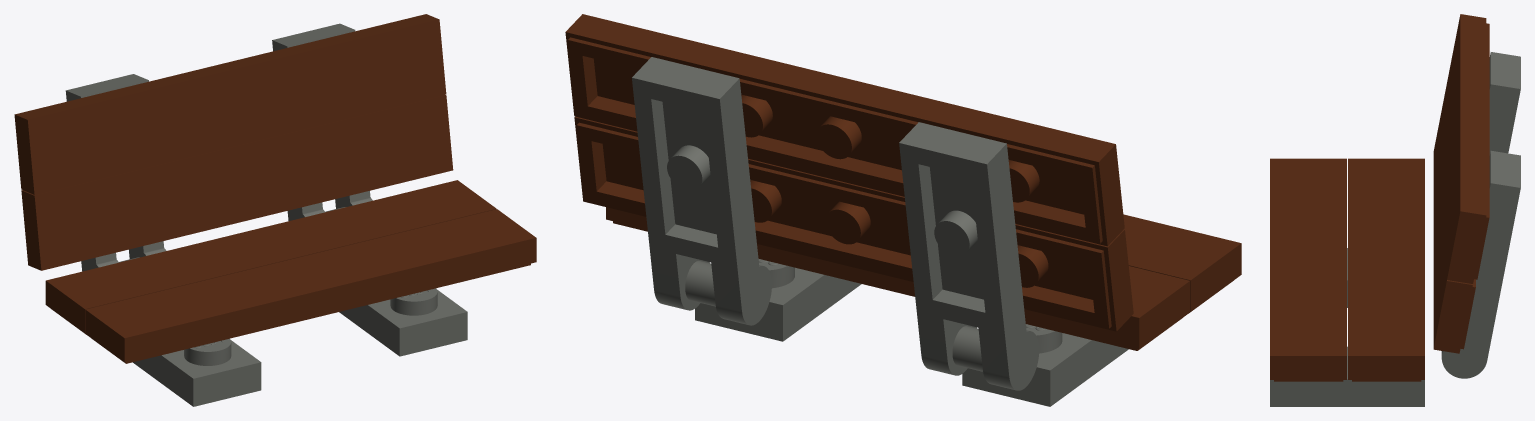
The model's file is banco.dae.
3 renders of one model, left to right at view 1: azimuth 30°, elevation 25°; view 2: azimuth 150°, elevation 25°; view 3: azimuth 270°, elevation 25°, orthographic. The views are drawn at different scales.
Parts seen in each view (by area): view 1: Inner-Node-banco_dot_io-7, Inner-Node-banco_dot_io-6, Inner-Node-banco_dot_io-4, Inner-Node-banco_dot_io-5, Inner-Node-banco_dot_io-0, Inner-Node-banco_dot_io-2, Inner-Node-banco_dot_io-1, Inner-Node-banco_dot_io-3; view 2: Inner-Node-banco_dot_io-7, Inner-Node-banco_dot_io-6, Inner-Node-banco_dot_io-1, Inner-Node-banco_dot_io-3, Inner-Node-banco_dot_io-5, Inner-Node-banco_dot_io-4, Inner-Node-banco_dot_io-0, Inner-Node-banco_dot_io-2; view 3: Inner-Node-banco_dot_io-4, Inner-Node-banco_dot_io-5, Inner-Node-banco_dot_io-7, Inner-Node-banco_dot_io-3, Inner-Node-banco_dot_io-6, Inner-Node-banco_dot_io-2, Inner-Node-banco_dot_io-1.
Boxes of the visible parts, left/top/right/bottom form: Inner-Node-banco_dot_io-7: left=14, top=14, right=446, bottom=194; Inner-Node-banco_dot_io-6: left=21, top=95, right=453, bottom=270; Inner-Node-banco_dot_io-4: left=85, top=209, right=536, bottom=363; Inner-Node-banco_dot_io-5: left=45, top=180, right=496, bottom=333; Inner-Node-banco_dot_io-0: left=133, top=338, right=261, bottom=406; Inner-Node-banco_dot_io-2: left=339, top=288, right=467, bottom=356; Inner-Node-banco_dot_io-1: left=65, top=74, right=166, bottom=271; Inner-Node-banco_dot_io-3: left=272, top=23, right=372, bottom=220; Inner-Node-banco_dot_io-7: left=565, top=14, right=1124, bottom=246; Inner-Node-banco_dot_io-6: left=574, top=116, right=1133, bottom=331; Inner-Node-banco_dot_io-1: left=899, top=122, right=1039, bottom=390; Inner-Node-banco_dot_io-3: left=632, top=57, right=771, bottom=325; Inner-Node-banco_dot_io-5: left=606, top=207, right=1189, bottom=350; Inner-Node-banco_dot_io-4: left=1123, top=214, right=1241, bottom=312; Inner-Node-banco_dot_io-0: left=962, top=324, right=1128, bottom=406; Inner-Node-banco_dot_io-2: left=695, top=259, right=861, bottom=341; Inner-Node-banco_dot_io-4: left=1270, top=158, right=1346, bottom=381; Inner-Node-banco_dot_io-5: left=1348, top=158, right=1424, bottom=381; Inner-Node-banco_dot_io-7: left=1447, top=14, right=1489, bottom=283; Inner-Node-banco_dot_io-3: left=1441, top=150, right=1520, bottom=378; Inner-Node-banco_dot_io-6: left=1433, top=84, right=1475, bottom=353; Inner-Node-banco_dot_io-2: left=1270, top=346, right=1424, bottom=406; Inner-Node-banco_dot_io-1: left=1489, top=52, right=1520, bottom=155.
Size of the model in its own units: 120 by 64.71 by 64.32.
